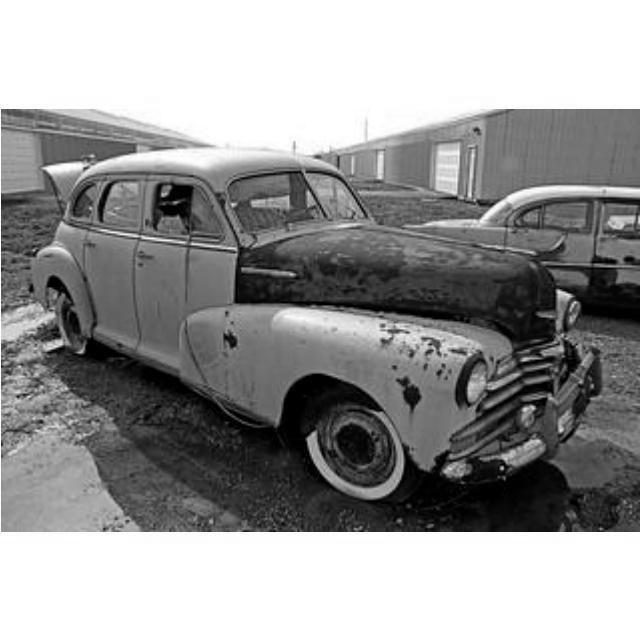doorouter-dent: (147, 164, 231, 290)
